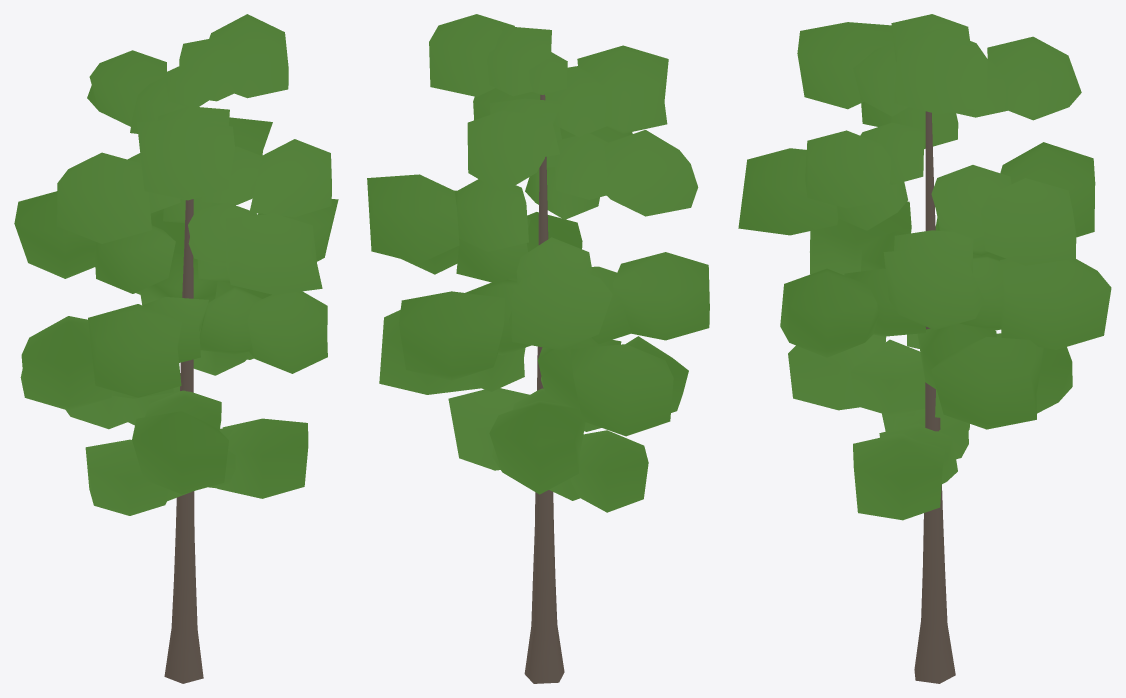
File: Blender_Sweetgum_2_Far.glb
3 views of the same model, side by side, from view 1: azimuth 30°, elevation 25°; view 2: azimuth 150°, elevation 25°; view 3: azimuth 270°, elevation 25° (orthographic). The views are drawn at different scales.
Visible parts, largest first — view 1: Blender_Sweetgum_2_Far; view 2: Blender_Sweetgum_2_Far; view 3: Blender_Sweetgum_2_Far.
Part boxes in pixels (x1,y1,x2,y2): Blender_Sweetgum_2_Far: (14, 14, 338, 683); Blender_Sweetgum_2_Far: (367, 14, 709, 683); Blender_Sweetgum_2_Far: (738, 14, 1111, 683).
Bounding box in the file's own units: 13.9 × 28.25 × 14.08.
